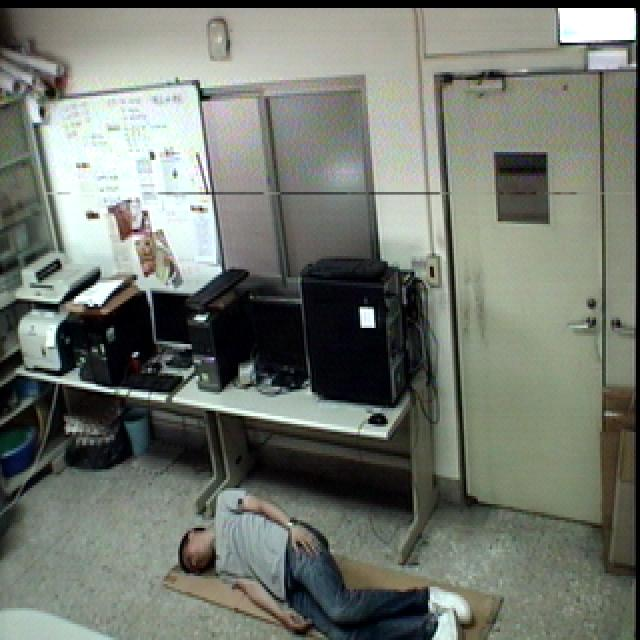lie: (176, 481, 480, 640)
